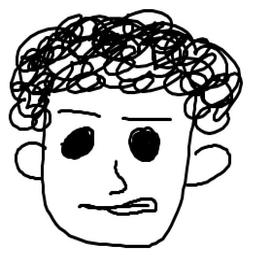ear: (182, 144, 237, 189), (14, 138, 44, 189)
eye: (58, 122, 98, 165), (126, 125, 161, 165)
eyebrow: (115, 110, 180, 126), (56, 102, 106, 120)
nose: (104, 156, 134, 199)
open_mouth: (73, 196, 161, 223)
